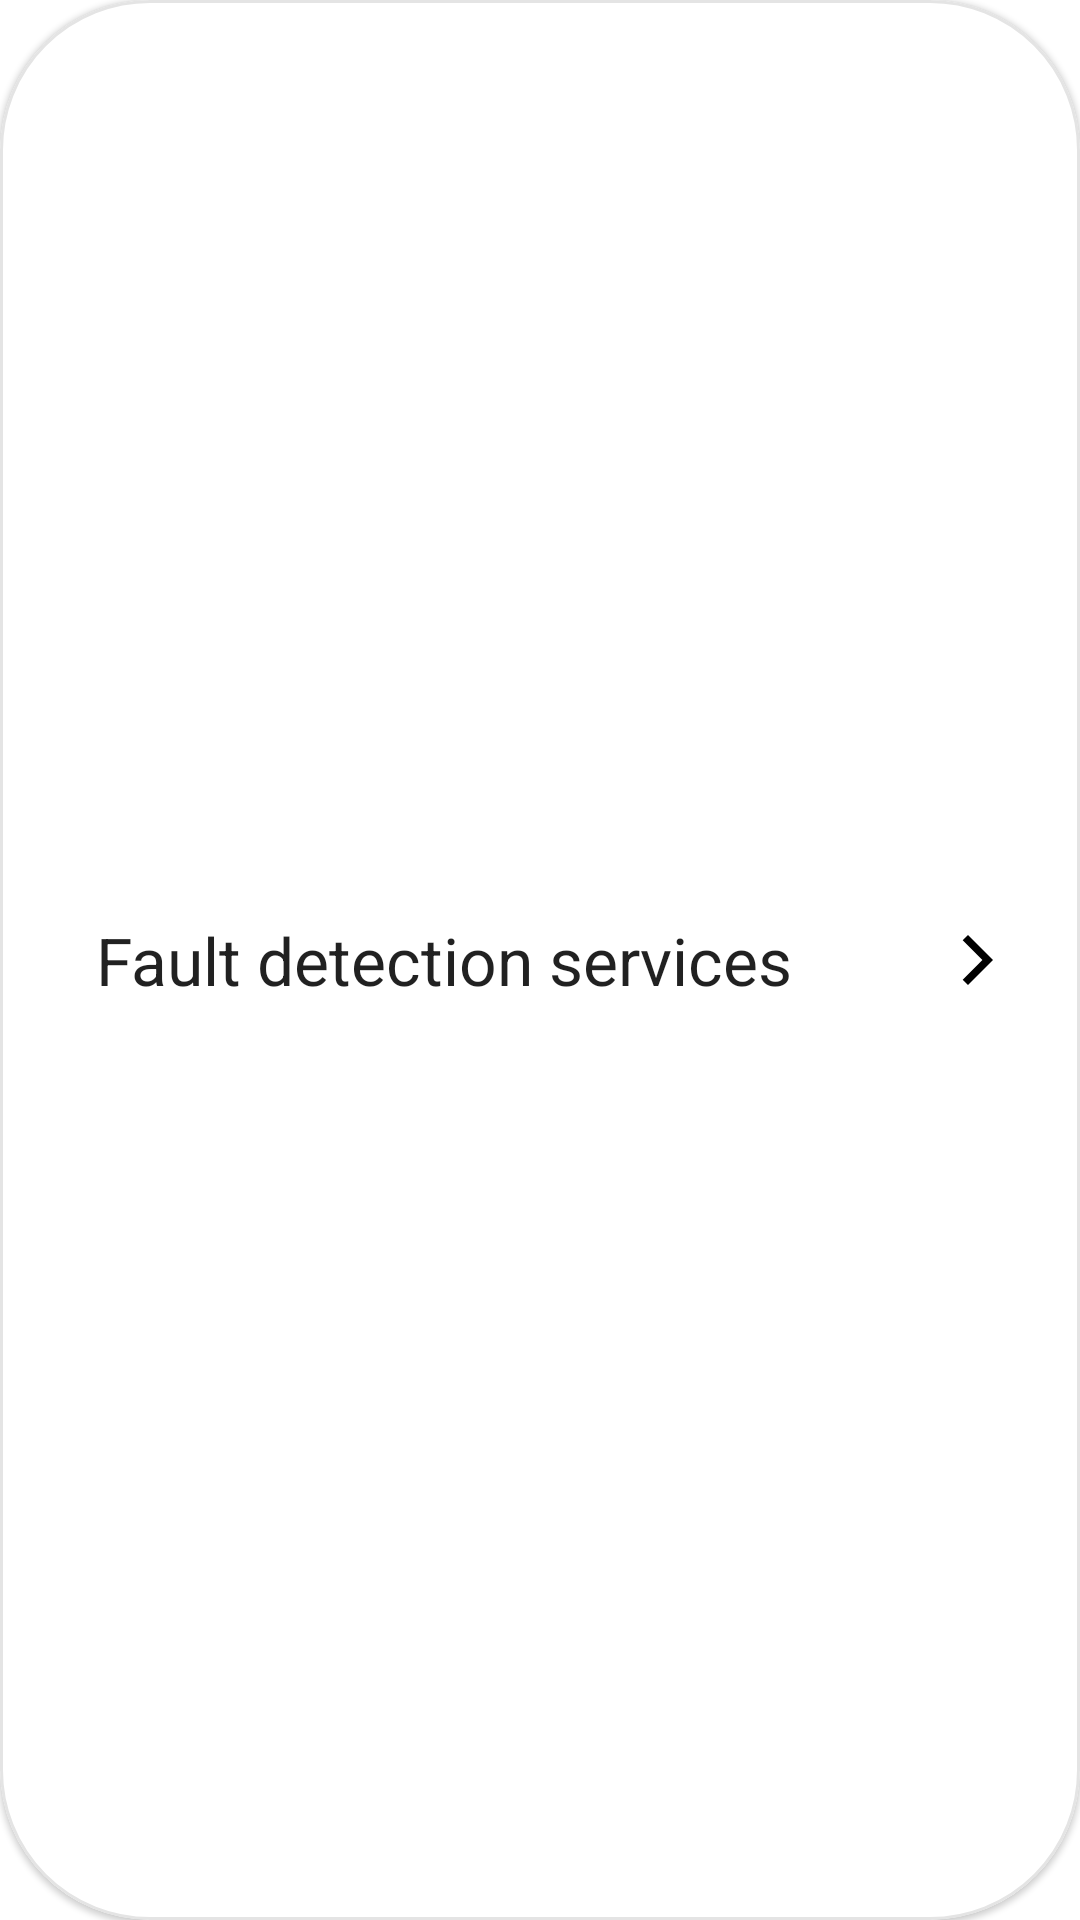

Where icons sit on this 1080*1920 app screen, as (x1, y1, x2, y2):
Click Direction Button: (963, 935, 993, 985)
